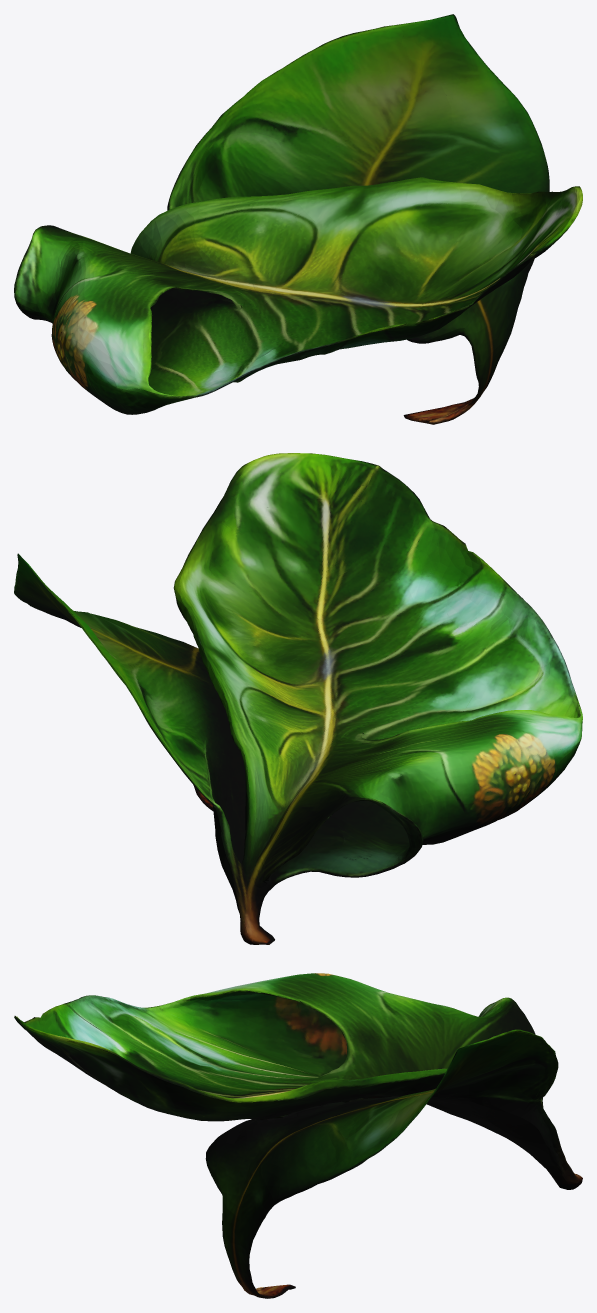
The model's file is banana-leaf-food-wrapper-art-deco.jpeg.glb.
3 views of the same model, one above another, from view 1: azimuth 30°, elevation 25°; view 2: azimuth 150°, elevation 25°; view 3: azimuth 270°, elevation 25° (orthographic). The views are drawn at different scales.
Visible parts, largest first — view 1: world; view 2: world; view 3: world.
Part boxes in pixels (left/top/right/bottom): world: left=14, top=14, right=582, bottom=424; world: left=14, top=453, right=582, bottom=944; world: left=14, top=973, right=582, bottom=1298.
Size of the model in its own units: 0.9978 by 0.5905 by 1.
1 material, 1 textured.
